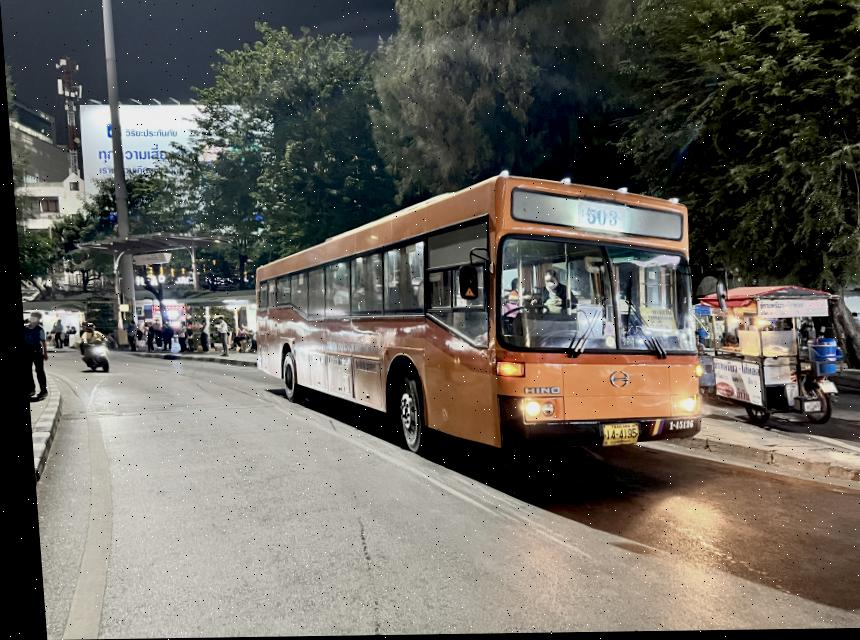BMTA-bus: (248, 176, 699, 460)
Bus Line Number: (571, 201, 626, 236)
Bus Side Number: (660, 420, 690, 437)
Destination Sign: (632, 310, 674, 335)
